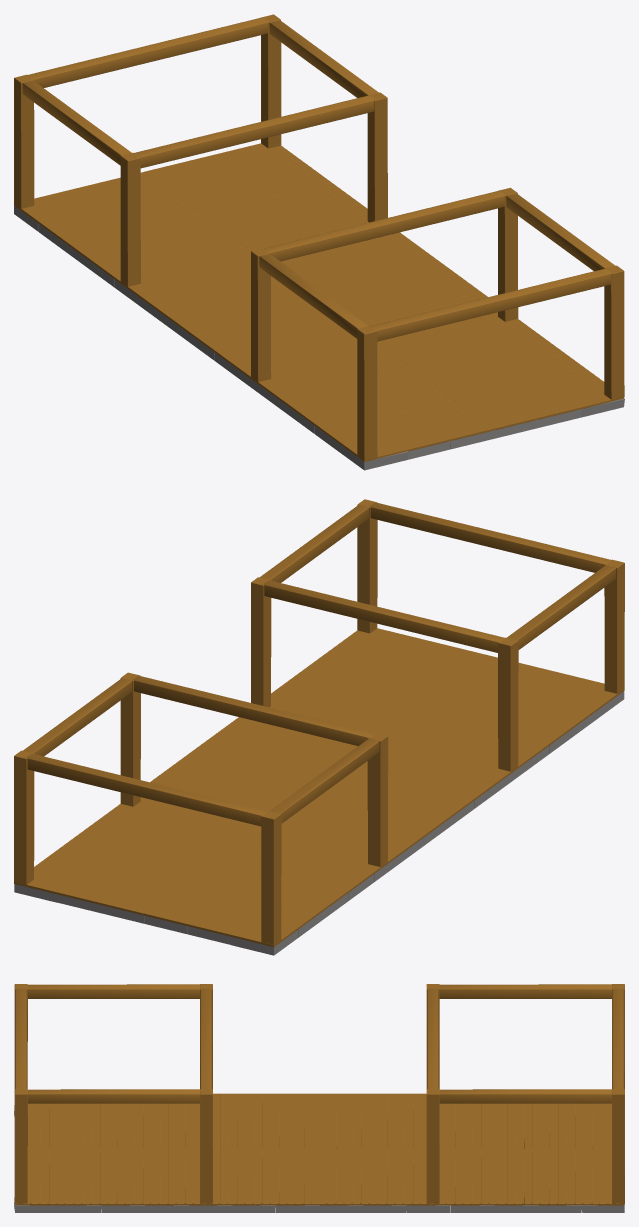
Rendered from SM_WareHouse_Construction.fbx.
The picture shows the model from 3 angles, top to bottom: view 1: azimuth 30°, elevation 25°; view 2: azimuth 150°, elevation 25°; view 3: azimuth 270°, elevation 25°; orthographic projection. The views are drawn at different scales.
Parts seen in each view (by area): view 1: SM_WareHouse; view 2: SM_WareHouse; view 3: SM_WareHouse.
Part boxes in pixels (box(x1,y1,x2,y2)): SM_WareHouse: box(14, 14, 624, 470); SM_WareHouse: box(14, 499, 624, 955); SM_WareHouse: box(14, 984, 624, 1212).
Size of what is drawn, in the model's own units: 601 by 1403 by 302.
